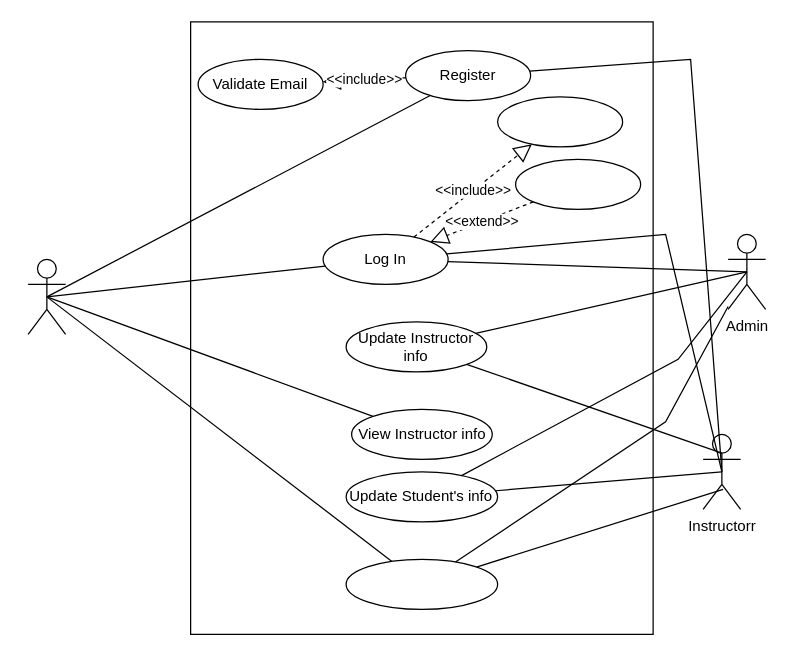
Image size: 790x656. Some labels were removed from this diagram. Here are the shapes that lost their labels. From the top down, the centre of each, then its label:
[559,121]: Verify Password
[577,183]: Display Login Error
[46,296]: Student
[421,583]: View Students Info
